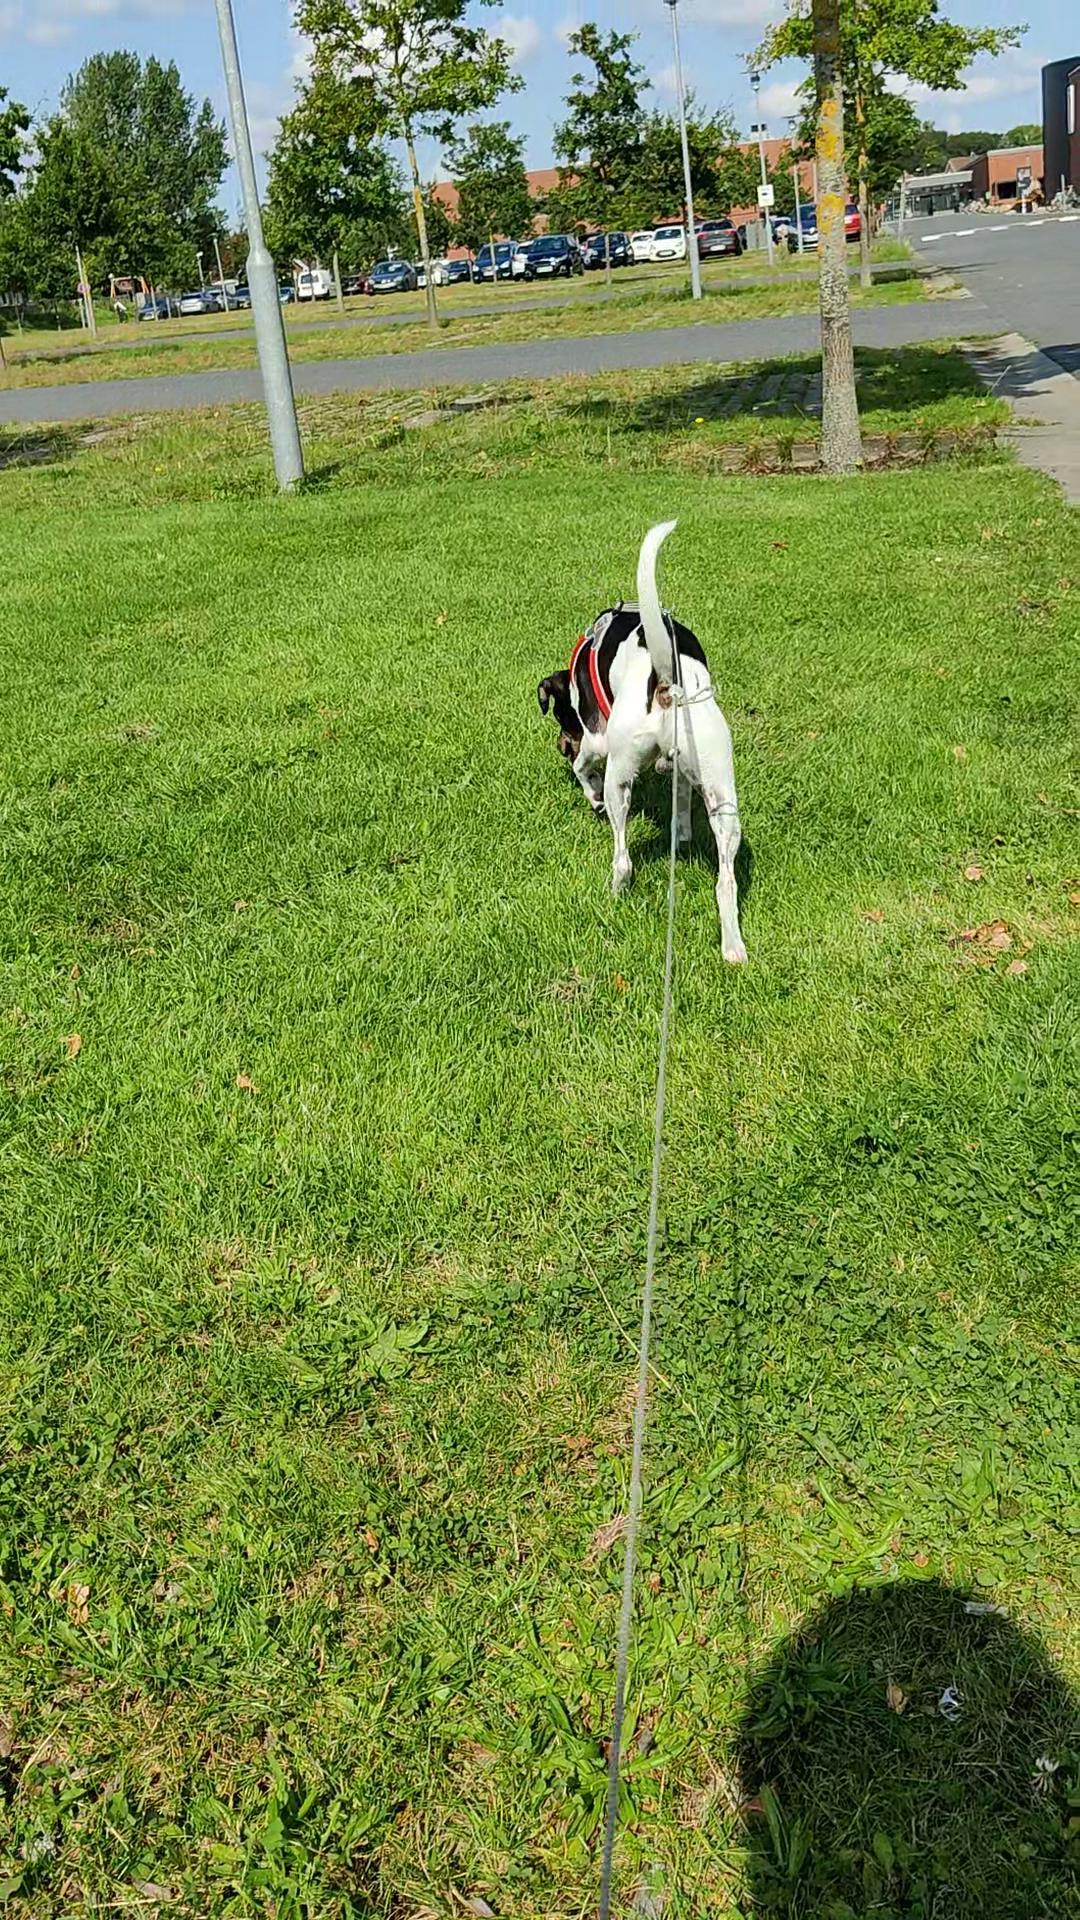Dog: (512, 498, 769, 975)
